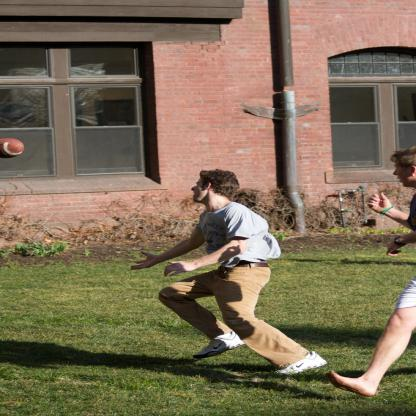Ball: (2, 138, 26, 162)
